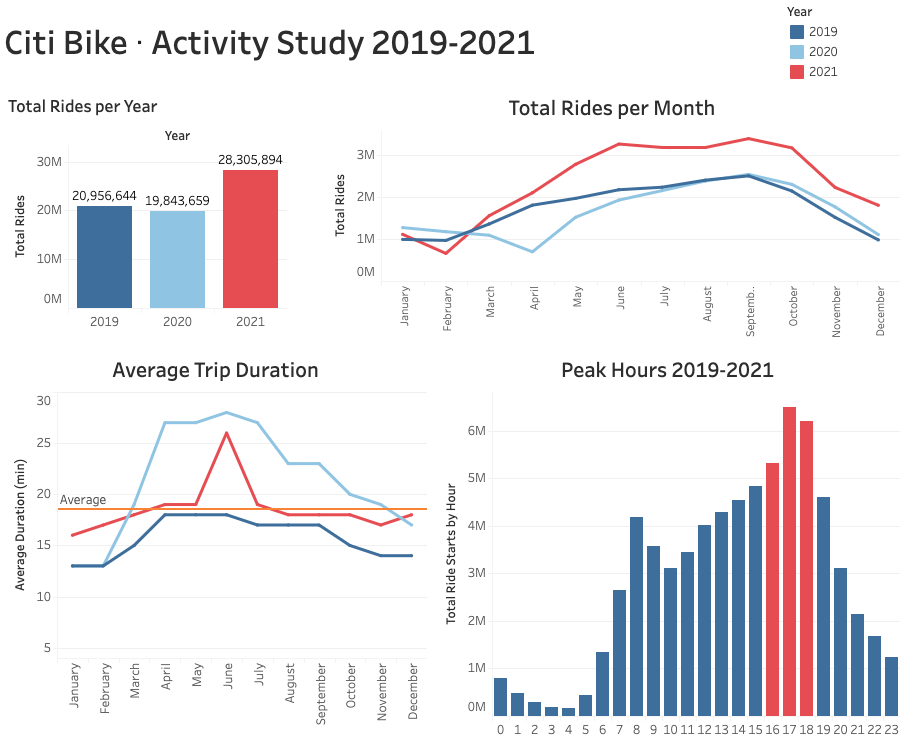

The page's visual inventory and layout, read from the dashboard file:
{"tool":"tableau","page":{"name":"ActivityDash","canvas":[1000,1000],"units":"permille","ordinal":0},"visuals":[{"type":"title","box":[8.7,10.5,982.6,111.9]},{"type":"legend","title":"Duration","param":"[federated.10siolg0gddtr319uyakq13duum0].[yr:year_month:ok]","box":[864.1,17.1,118.5,102.6]},{"type":"worksheet","title":"RideTotals","mark":"Automatic","rows":["Total Rides"],"cols":["year"],"box":[8.7,122.4,347.8,345.2]},{"type":"worksheet","title":"RidesMonth","mark":"Automatic","rows":["Total Rides"],"cols":["year_month"],"box":[356.5,122.4,634.8,345.2]},{"type":"worksheet","title":"Duration","mark":"Automatic","rows":["Average Ride (min)"],"cols":["year_month"],"box":[8.7,467.6,468.5,521.9]},{"type":"worksheet","title":"PeakHours","mark":"Automatic","rows":["starttime"],"cols":["Hour"],"box":[477.2,467.6,514.1,521.9]}]}

Visuals, with their boxes on the dashboard's canvas, which has no fixed pixel size, in thousandths of its width and height (x1, y1, x2, y2). These are canvas units, not pixel positions in the 911x743 screenshot, which may show the page scaled, cropped or inside an application window:
title: x1=9, y1=10, x2=991, y2=122
"Duration" legend: x1=864, y1=17, x2=983, y2=120
"RideTotals" worksheet: x1=9, y1=122, x2=356, y2=468
"RidesMonth" worksheet: x1=356, y1=122, x2=991, y2=468
"Duration" worksheet: x1=9, y1=468, x2=477, y2=990
"PeakHours" worksheet: x1=477, y1=468, x2=991, y2=990
